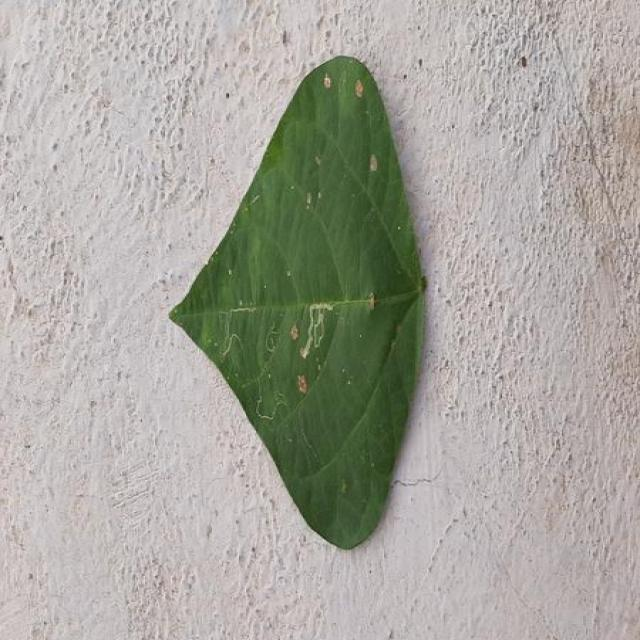beans: (170, 56, 425, 548)
defectedbeans: (243, 56, 408, 226), (213, 291, 420, 394), (308, 511, 381, 548)
